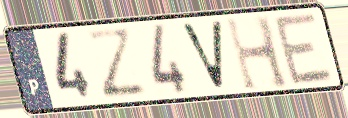4: (53, 29, 98, 105), (148, 21, 190, 98)
E: (271, 10, 338, 88)
H: (222, 13, 293, 94)
V: (177, 18, 227, 93)
Z: (83, 26, 151, 102)
